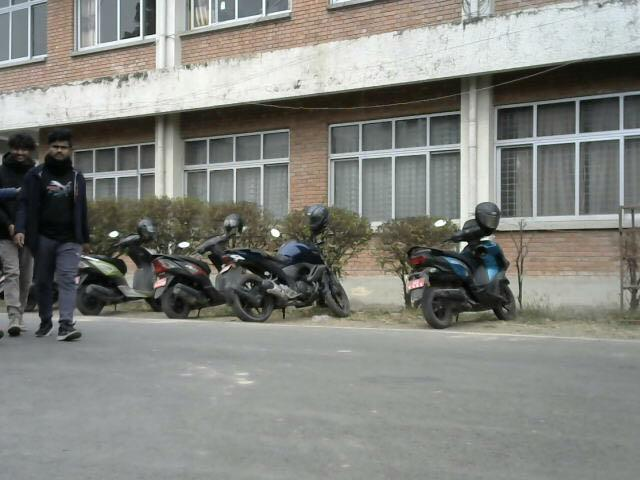Building: (1, 0, 633, 230)
Motorcycle: (408, 197, 519, 326), (237, 205, 362, 317), (153, 226, 243, 321), (79, 232, 169, 322)
Person: (30, 124, 96, 351), (0, 130, 34, 345)
Road: (6, 313, 640, 479)
